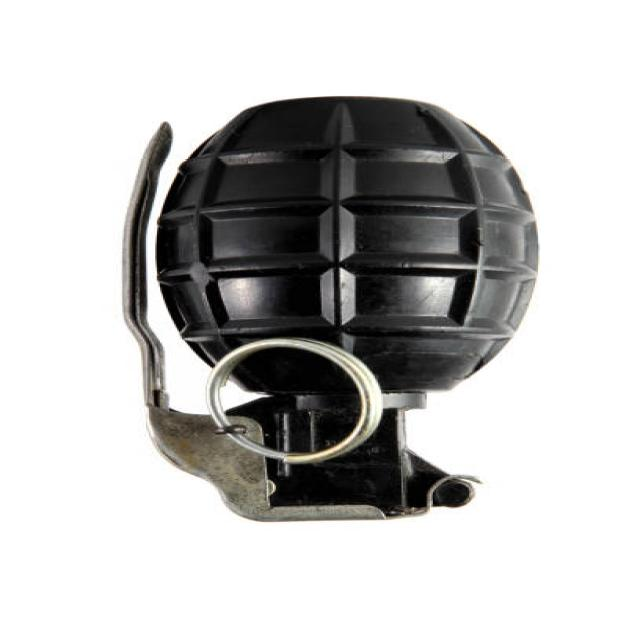grenade: (117, 83, 540, 534)
